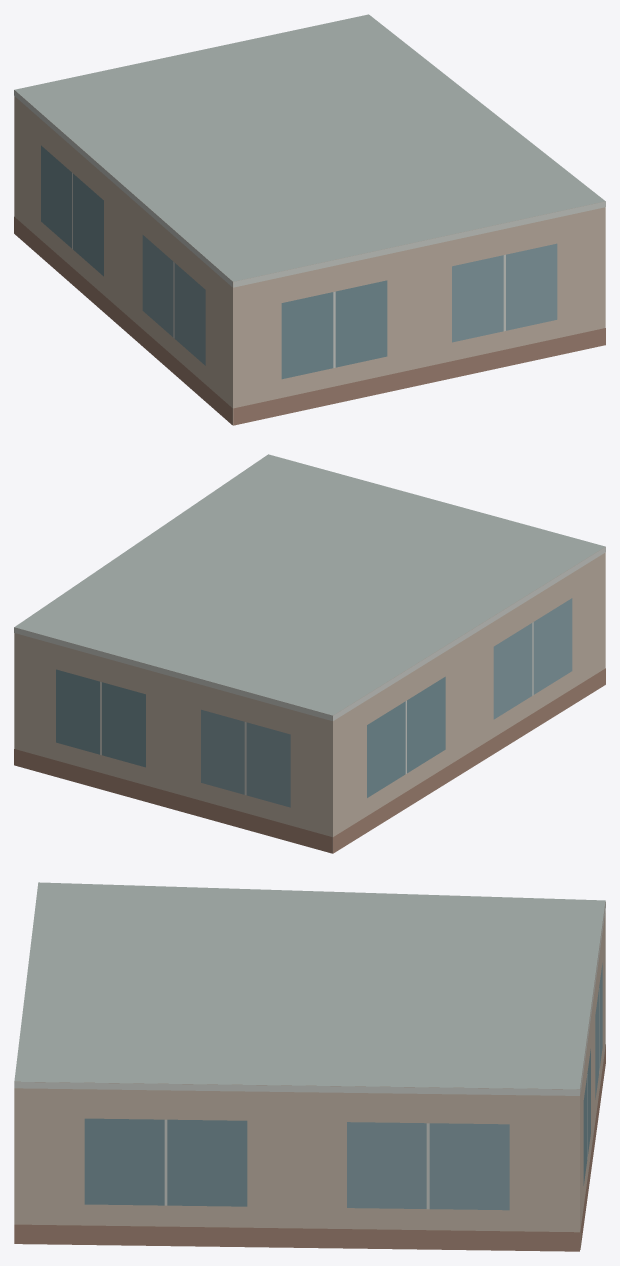
The model's file is survey-upis-32602110.glb.
The picture shows the model from 3 angles, top to bottom: view 1: azimuth 30°, elevation 25°; view 2: azimuth 150°, elevation 25°; view 3: azimuth 270°, elevation 25°; orthographic projection. The views are drawn at different scales.
Visible parts, largest first — view 1: survey-upis-32602110.tmp; view 2: survey-upis-32602110.tmp; view 3: survey-upis-32602110.tmp.
Part boxes in pixels (x1,y1,x2,y2): survey-upis-32602110.tmp: (14,14,605,425); survey-upis-32602110.tmp: (14,454,605,853); survey-upis-32602110.tmp: (14,882,605,1251).
Bounding box in the file's own units: 8.36 × 3.05 × 10.09.
